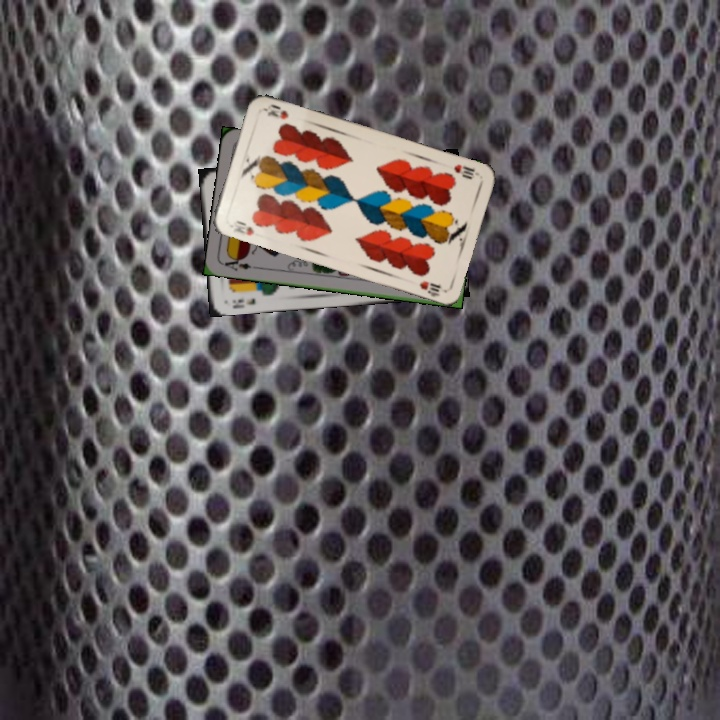EA: (220, 253, 260, 274)
EK: (228, 294, 258, 310)
H10: (450, 160, 481, 182), (229, 216, 257, 238)
